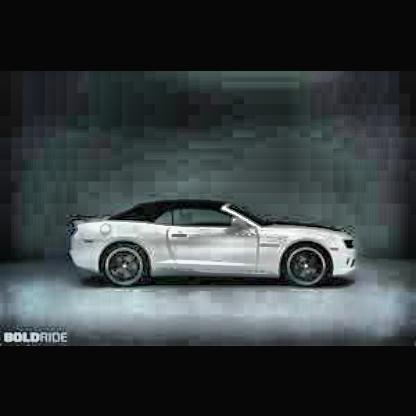Chevrolet Camaro Convertible 2012: (68, 199, 363, 294)
